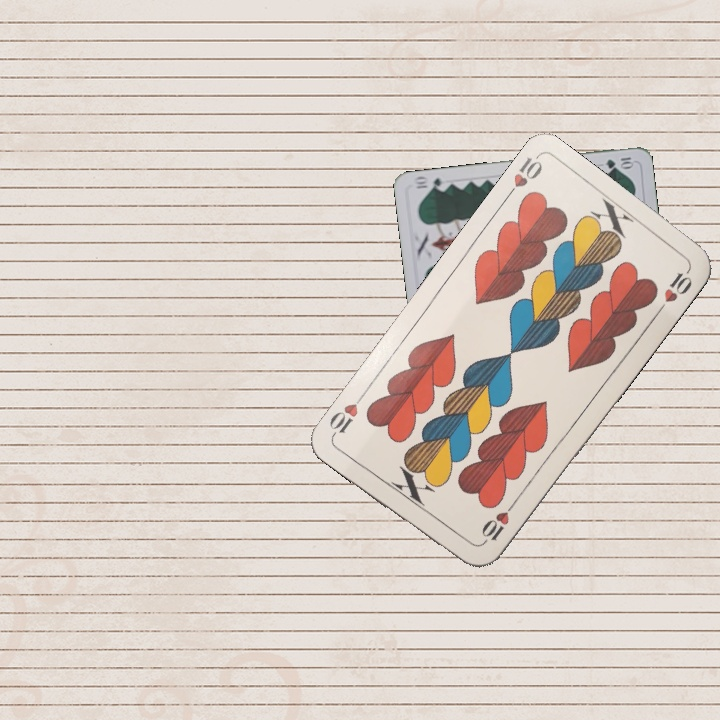G10: (602, 153, 636, 171)
H10: (500, 153, 545, 204), (476, 497, 518, 548)
